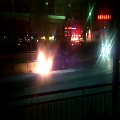fire: (32, 52, 52, 74)
